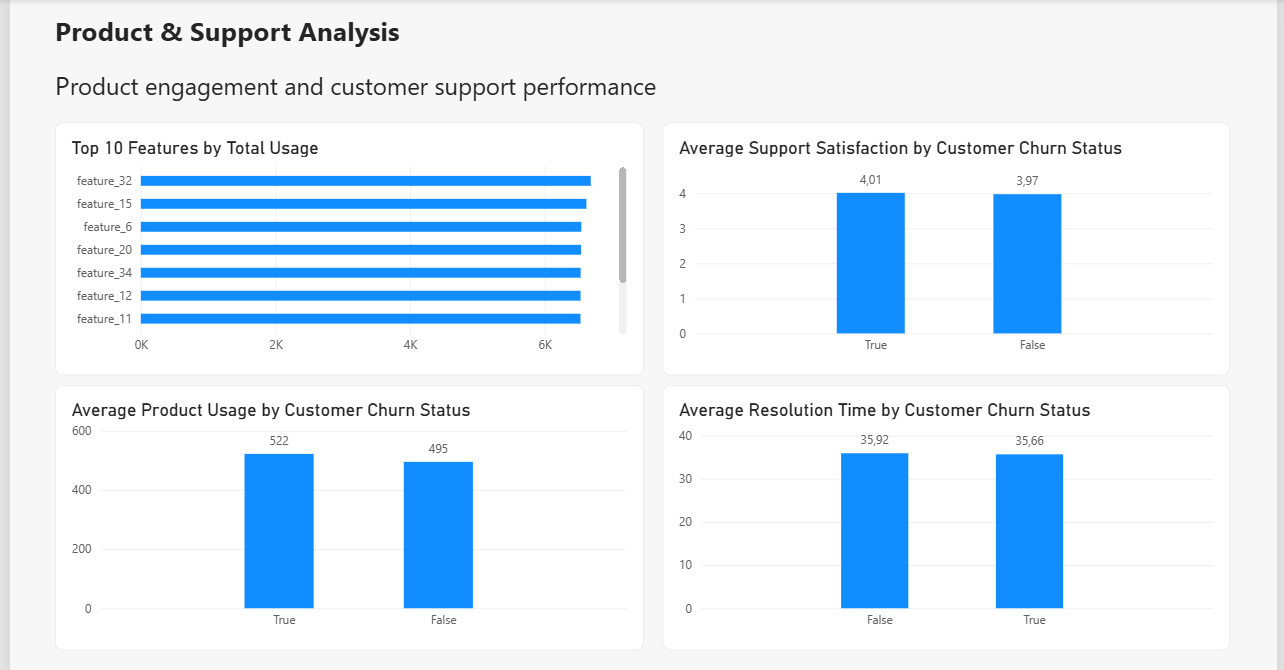

What the dashboard file says about the page in this screenshot:
{"tool":"powerbi","page":{"name":"Product & Support","canvas":[1280,720],"ordinal":2},"visuals":[{"type":"textbox","box":[45.2,15.6,731.9,98.1],"z":0},{"type":"clusteredBarChart","title":"Top 10 Features by Total Usage","fields":{"Category":["ravenstack_feature_usage.feature_name"],"Y":["Sum(ravenstack_feature_usage.usage_count)"]},"box":[45.2,126.1,594.8,255.4],"z":1},{"type":"clusteredColumnChart","title":"Average Product Usage by Customer Churn Status","fields":{"Category":["ravenstack_accounts.churn_flag"],"Y":["ravenstack_subscriptions.Avg Usage per Account"]},"box":[45.2,390.9,594.8,267.8],"z":2},{"type":"clusteredColumnChart","title":"Average Support Satisfaction by Customer Churn Status","fields":{"Category":["ravenstack_accounts.churn_flag"],"Y":["Avg(ravenstack_support_tickets.satisfaction_score)"]},"box":[658.7,126.1,573,255.4],"z":3},{"type":"clusteredColumnChart","title":"Average Resolution Time by Customer Churn Status","fields":{"Category":["ravenstack_accounts.churn_flag"],"Y":["Avg(ravenstack_support_tickets.resolution_time_hours)"]},"box":[658.7,390.9,573,267.8],"z":4}]}

Visuals, with their boxes on the page's 1280x720 design canvas (x1, y1, x2, y2). These are canvas units, not pixel positions in the 1284x670 screenshot, which may show the page scaled, cropped or inside an application window:
textbox: {"x1": 45, "y1": 16, "x2": 777, "y2": 114}
"Top 10 Features by Total Usage" clusteredBarChart: {"x1": 45, "y1": 126, "x2": 640, "y2": 382}
"Average Product Usage by Customer Churn Status" clusteredColumnChart: {"x1": 45, "y1": 391, "x2": 640, "y2": 659}
"Average Support Satisfaction by Customer Churn Status" clusteredColumnChart: {"x1": 659, "y1": 126, "x2": 1232, "y2": 382}
"Average Resolution Time by Customer Churn Status" clusteredColumnChart: {"x1": 659, "y1": 391, "x2": 1232, "y2": 659}
